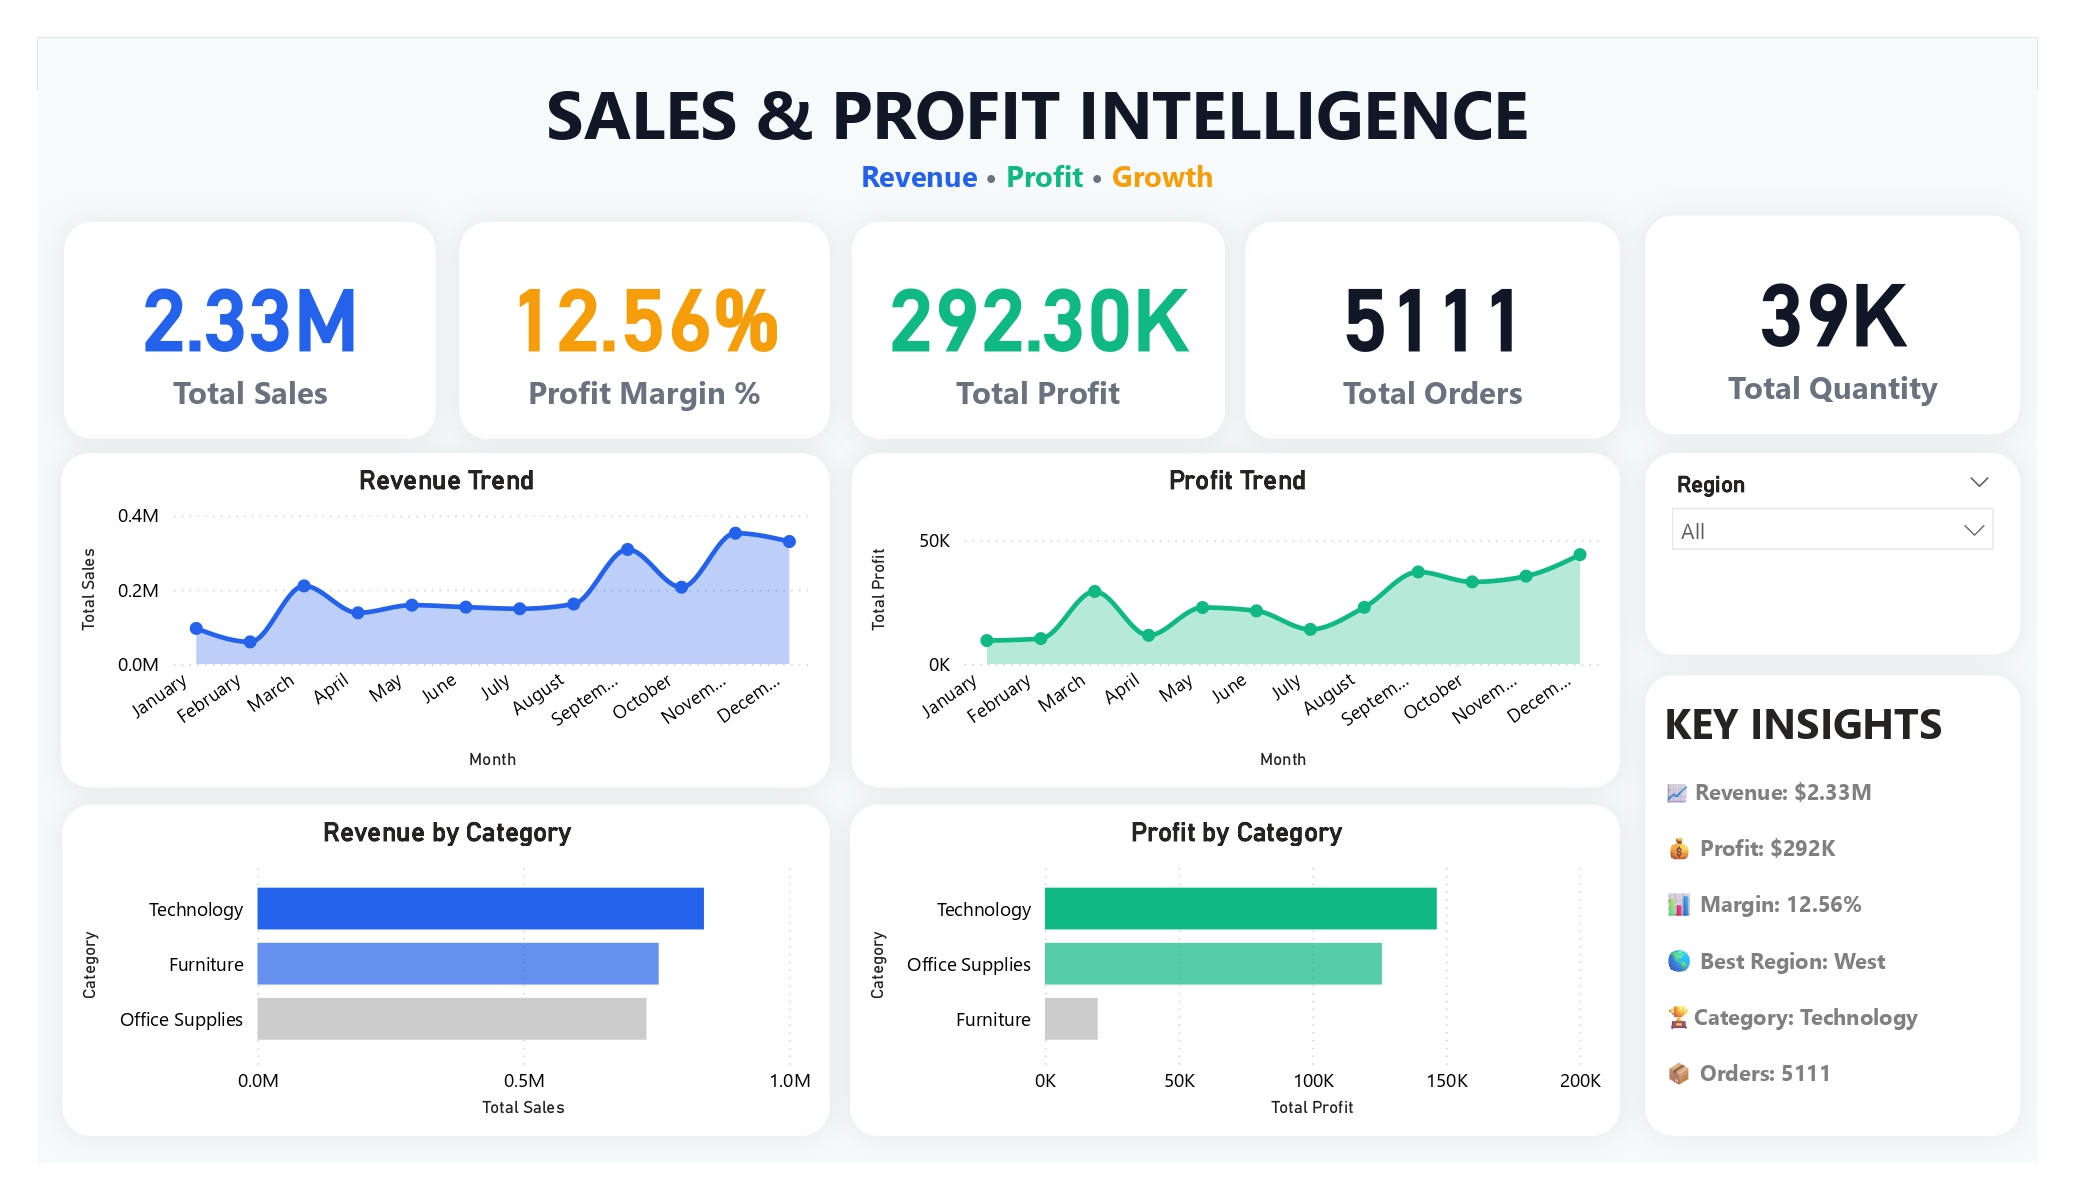

What the dashboard file says about the page in this screenshot:
{"tool":"powerbi","page":{"name":"Overview ","canvas":[1280,720],"ordinal":0},"visuals":[{"type":"card","title":"Total Sales ","fields":{"Values":["Sheet1.Total Sales"]},"box":[17.4,117.6,237.2,139.5],"z":0},{"type":"card","fields":{"Values":["Sheet1.Total Orders"]},"box":[773.3,117.6,239.5,139.5],"z":1000},{"type":"card","fields":{"Values":["Sheet1.Total Profit"]},"box":[520.9,117.6,239.5,139.5],"z":2000},{"type":"card","fields":{"Values":["Sheet1.Profit Margin %"]},"box":[269.8,117.6,237.2,139.5],"z":3000},{"type":"card","fields":{"Values":["Sheet1.Total Quantity"]},"box":[1029.1,114.1,239.5,139.5],"z":4000},{"type":"lineChart","title":"Revenue Trend","fields":{"Y":["Sheet1.Total Sales"],"Category":["Sheet1.Month"]},"box":[15.1,266.5,491.9,214],"z":5000},{"type":"lineChart","title":"Profit Trend","fields":{"Y":["Sheet1.Total Profit"],"Category":["Sheet1.Month"]},"box":[520.9,266.5,491.9,214],"z":6000},{"type":"clusteredBarChart","title":"Revenue by Category","fields":{"Category":["Sheet1.Category"],"Y":["Sheet1.Total Sales"]},"box":[16.3,490.7,490.7,212.8],"z":7000},{"type":"clusteredBarChart","title":"Profit by Category","fields":{"Category":["Sheet1.Category"],"Y":["Sheet1.Total Profit"]},"box":[519.8,490.7,493,212.8],"z":8000},{"type":"textbox","box":[0,14,1280.2,101.2],"z":9000},{"type":"textbox","box":[1029.1,408.1,239.5,295.3],"z":10000},{"type":"slicer","fields":{"Values":["Sheet1.Region","Sheet1.Sales","Sheet1.Profit"]},"box":[1029.1,266.3,239.5,129.1],"z":11000}]}

Visuals, with their boxes on the page's 1280x720 design canvas (x1, y1, x2, y2). These are canvas units, not pixel positions in the 2075x1200 screenshot, which may show the page scaled, cropped or inside an application window:
"Total Sales " card: <box>17,118,255,257</box>
card - Sheet1.Total Orders: <box>773,118,1013,257</box>
card - Sheet1.Total Profit: <box>521,118,760,257</box>
card - Sheet1.Profit Margin %: <box>270,118,507,257</box>
card - Sheet1.Total Quantity: <box>1029,114,1269,254</box>
"Revenue Trend" lineChart: <box>15,266,507,480</box>
"Profit Trend" lineChart: <box>521,266,1013,480</box>
"Revenue by Category" clusteredBarChart: <box>16,491,507,704</box>
"Profit by Category" clusteredBarChart: <box>520,491,1013,704</box>
textbox: <box>0,14,1280,115</box>
textbox: <box>1029,408,1269,703</box>
slicer - Sheet1.Region x Sheet1.Sales: <box>1029,266,1269,395</box>
